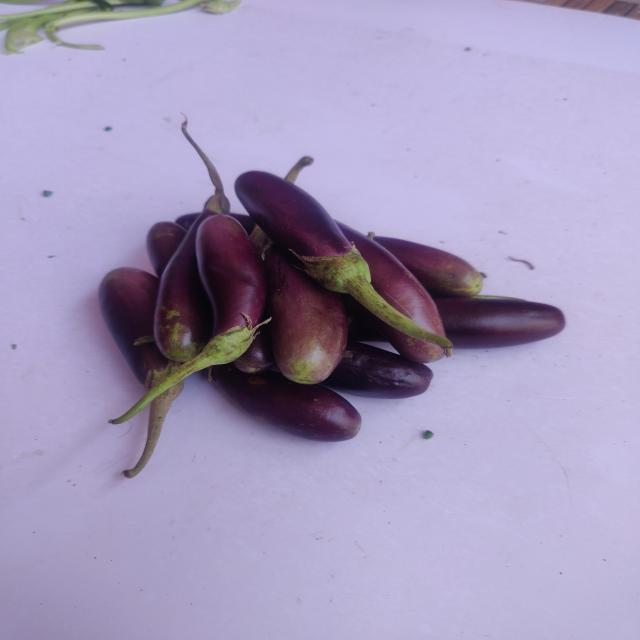Brinjal: (0, 0, 640, 640), (235, 171, 452, 349), (111, 214, 266, 424), (98, 268, 178, 392), (153, 209, 214, 363), (121, 381, 183, 478)
